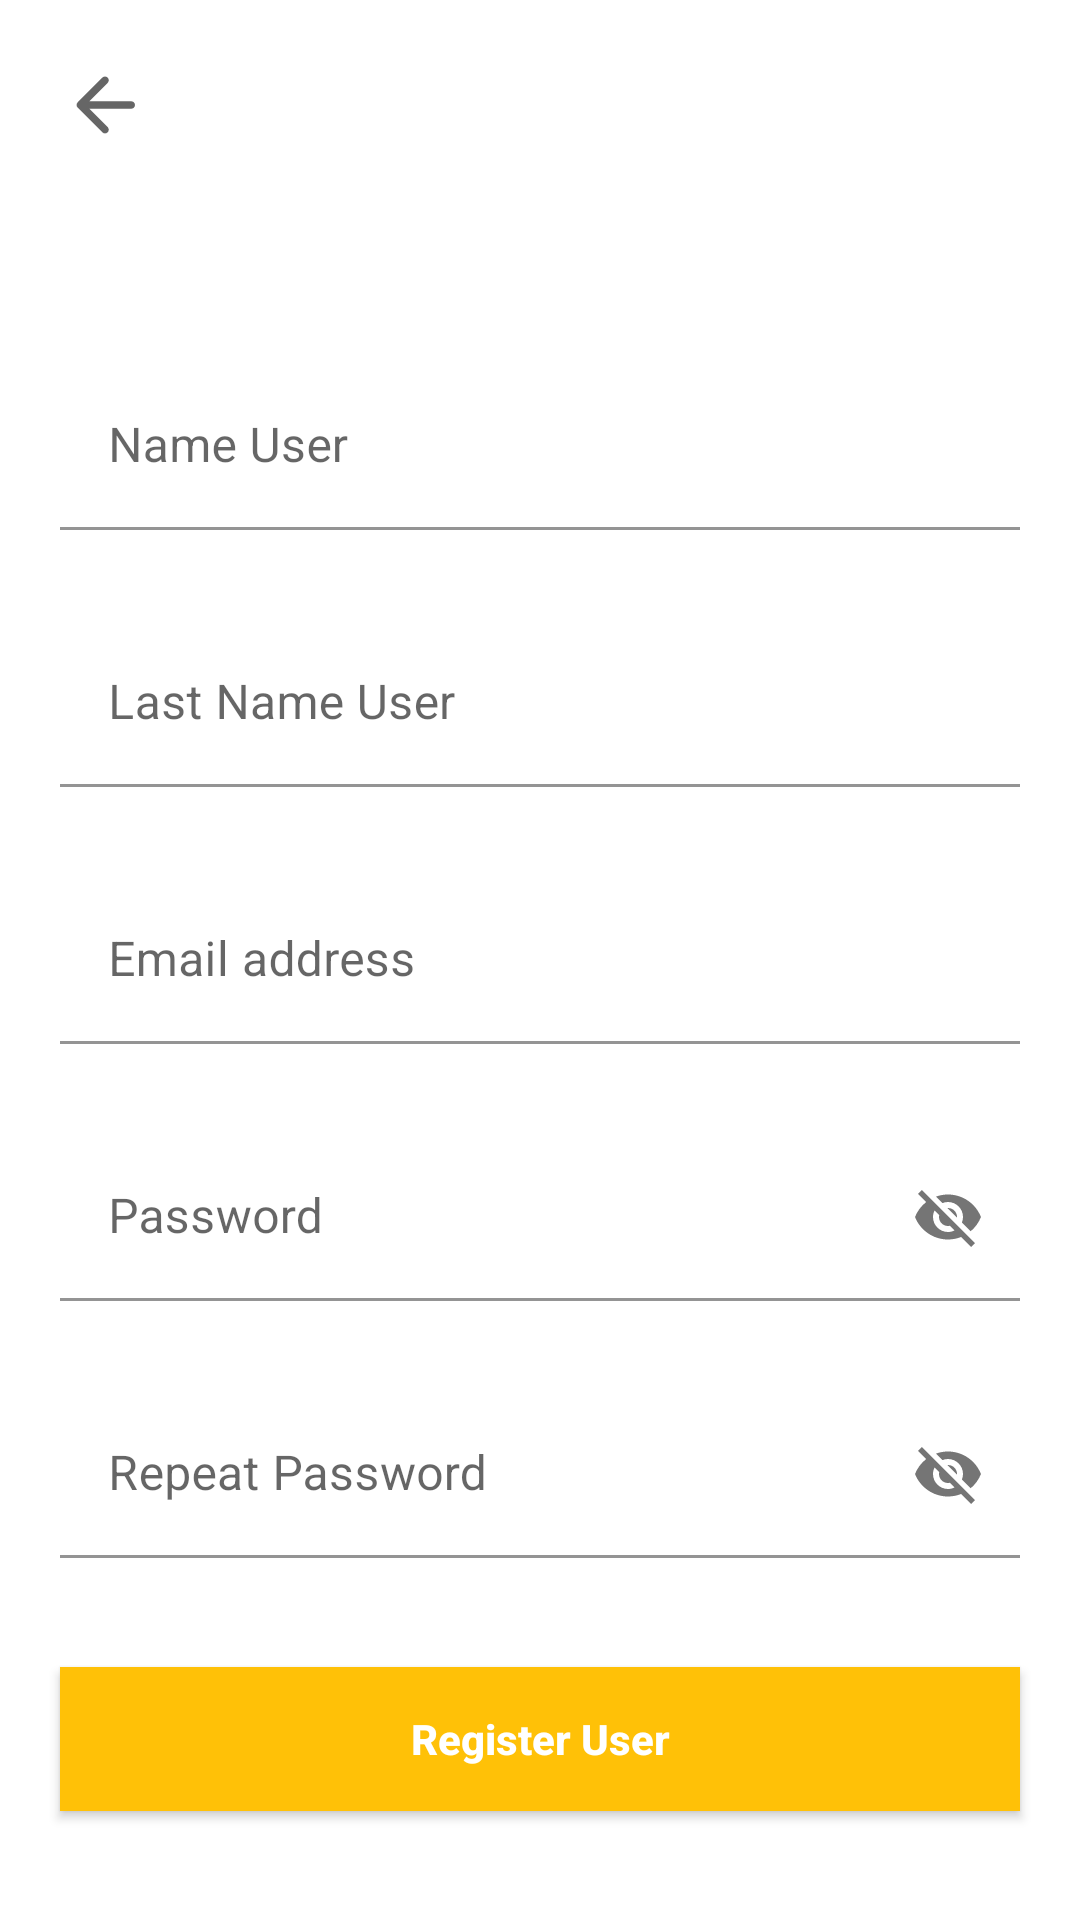

Screen size 1080 x 1920. Icon name, then its center in pixels as (x=x, y=y):
arrow back: (x=105, y=105)
